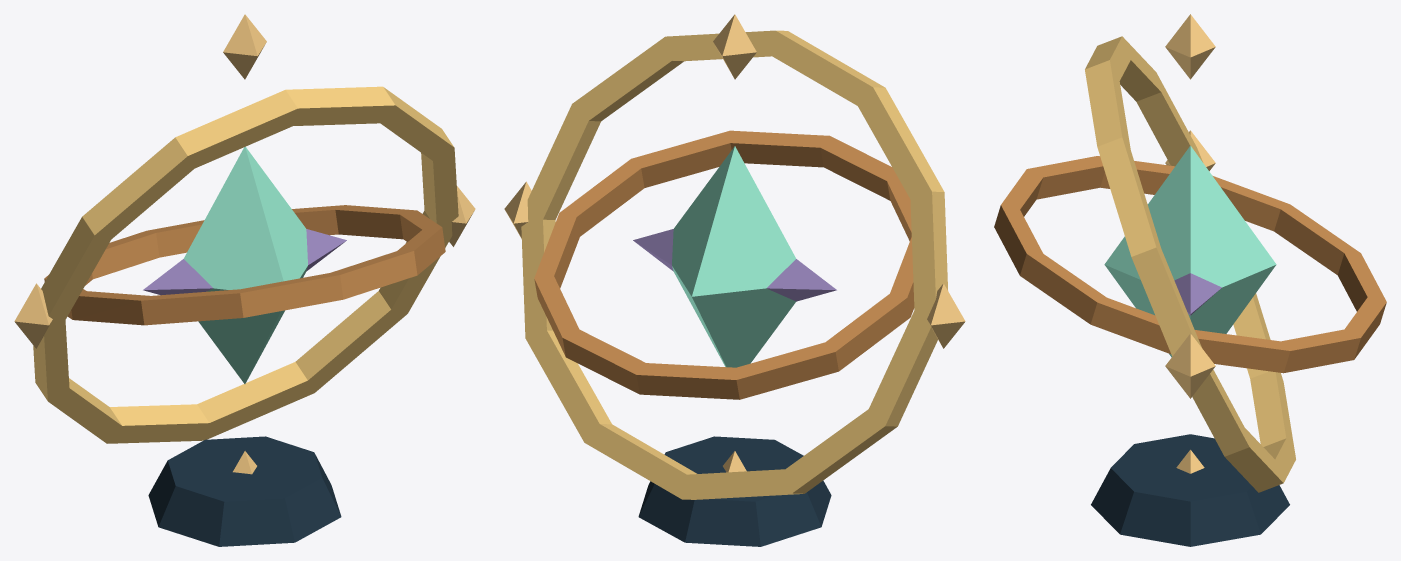
The model's file is EclipseAstrolabe.obj.
The picture shows the model from 3 angles, left to right: view 1: azimuth 30°, elevation 25°; view 2: azimuth 150°, elevation 25°; view 3: azimuth 270°, elevation 25°; orthographic projection.
Bounding box in the file's own units: 5.86 × 6.1 × 4.33.
